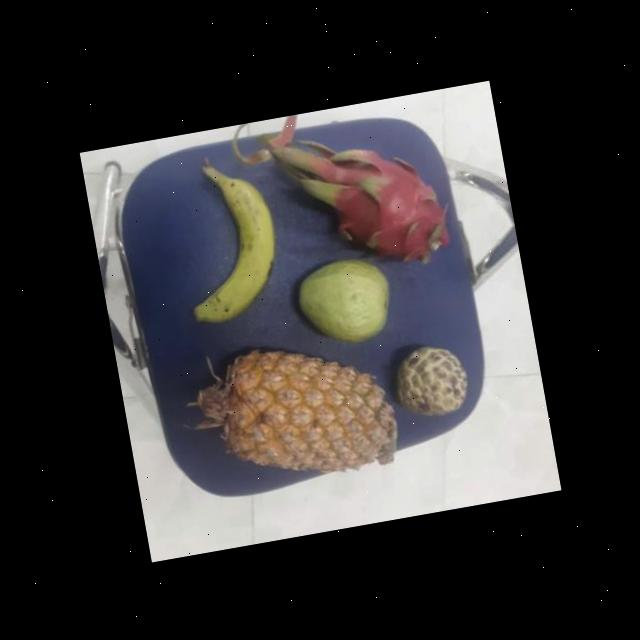Sakya fruit: (391, 337, 470, 420)
banana: (175, 150, 286, 322)
guava: (292, 248, 396, 349)
pineapple: (201, 325, 400, 486)
pitaya: (316, 136, 453, 272)
